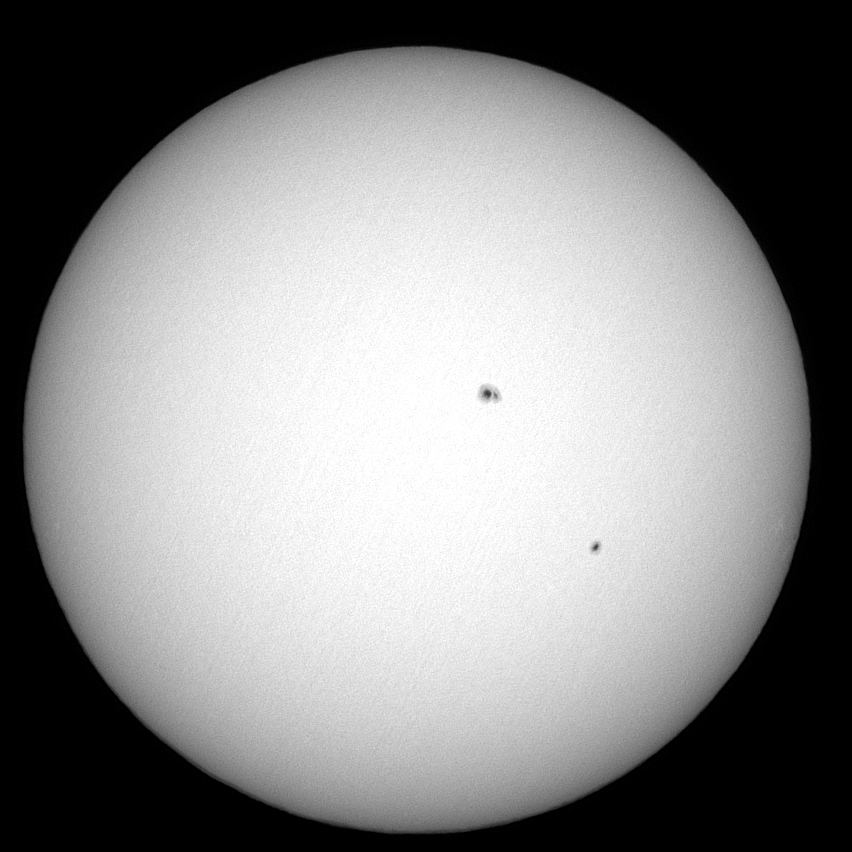sunspot: (476, 381, 504, 406), (589, 540, 605, 555)
